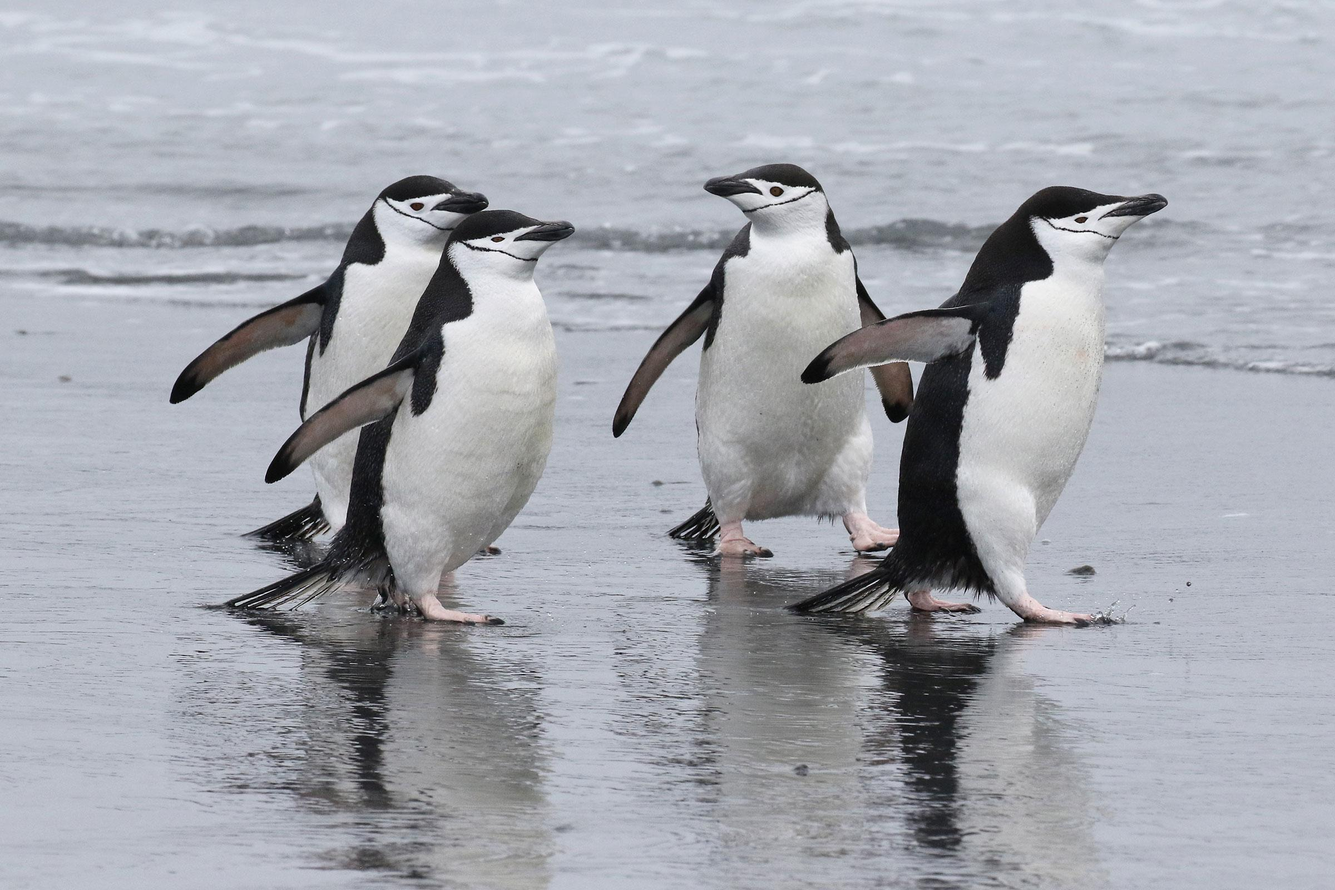Penguin: (790, 188, 1165, 623), (227, 211, 573, 623), (613, 164, 897, 555), (170, 175, 487, 419), (241, 426, 361, 544)
